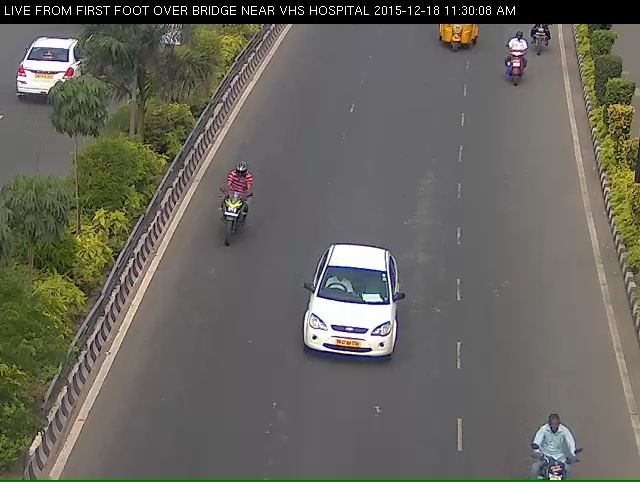Car: (288, 259, 413, 392), (426, 24, 487, 65)
Person: (207, 184, 243, 264), (507, 41, 534, 91)
